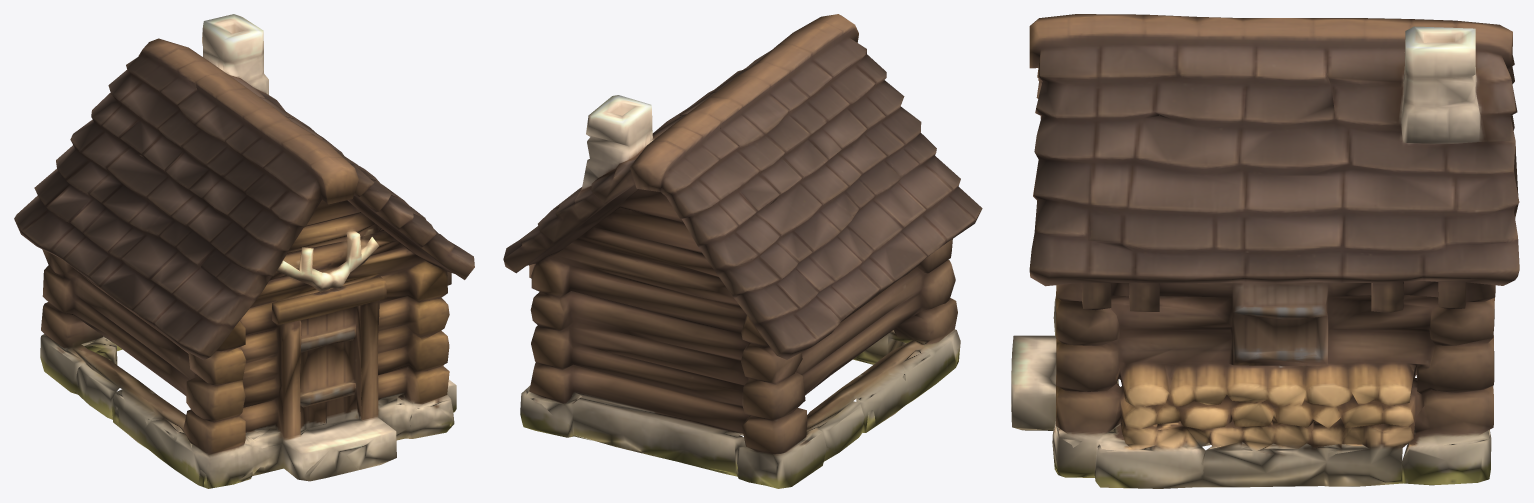
Rendered from hunters_lodge.glb.
3 views of the same model, side by side, from view 1: azimuth 30°, elevation 25°; view 2: azimuth 150°, elevation 25°; view 3: azimuth 270°, elevation 25° (orthographic). The views are drawn at different scales.
Parts seen in each view (by area): view 1: geometry_0.001; view 2: geometry_0.001; view 3: geometry_0.001.
Boxes of the visible parts, bbox=[...] form: geometry_0.001: bbox=[14, 14, 474, 488]; geometry_0.001: bbox=[503, 14, 982, 488]; geometry_0.001: bbox=[1011, 14, 1519, 488].
Bounding box in the file's own units: 1.68 × 1.72 × 1.99.
1 material, 1 textured.
